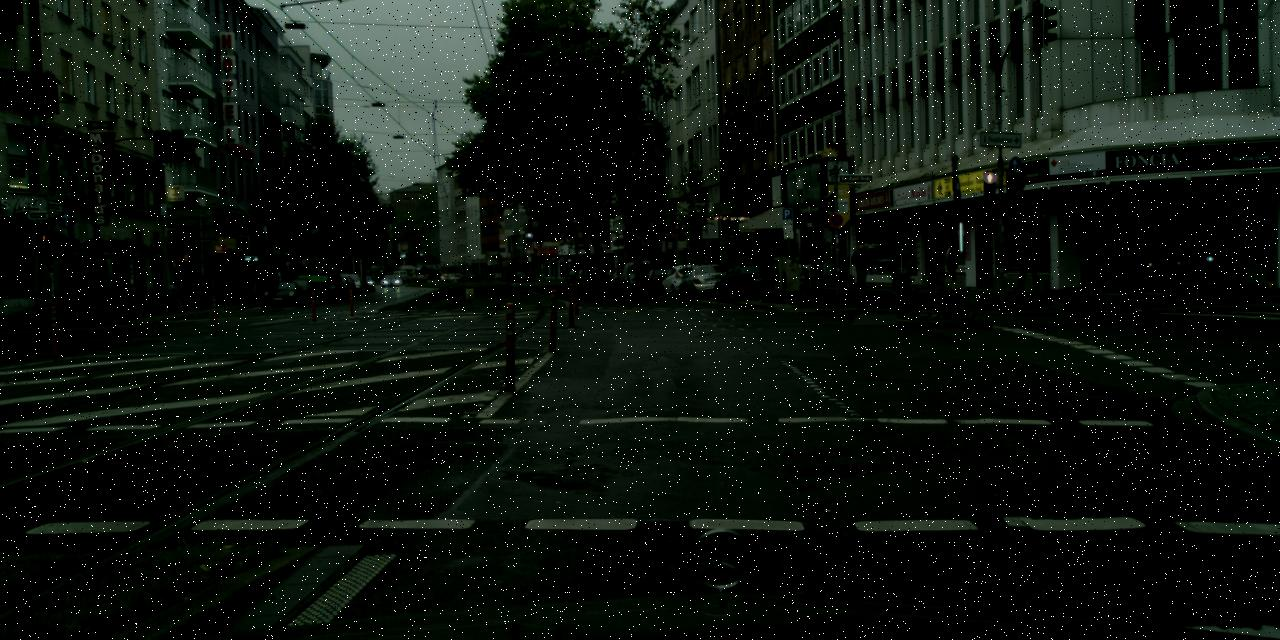ped: (1014, 228, 1040, 295), (850, 244, 871, 294), (272, 268, 282, 294)
